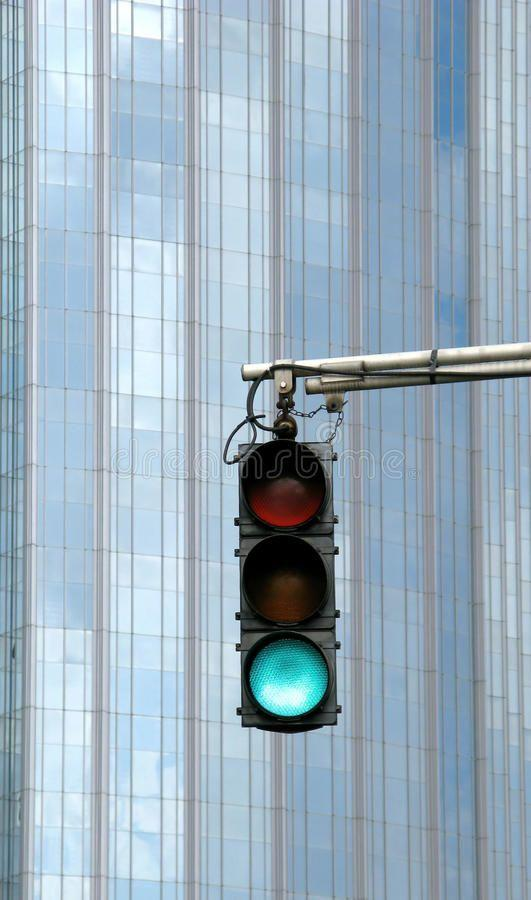Traffic light green: (220, 425, 368, 750)
